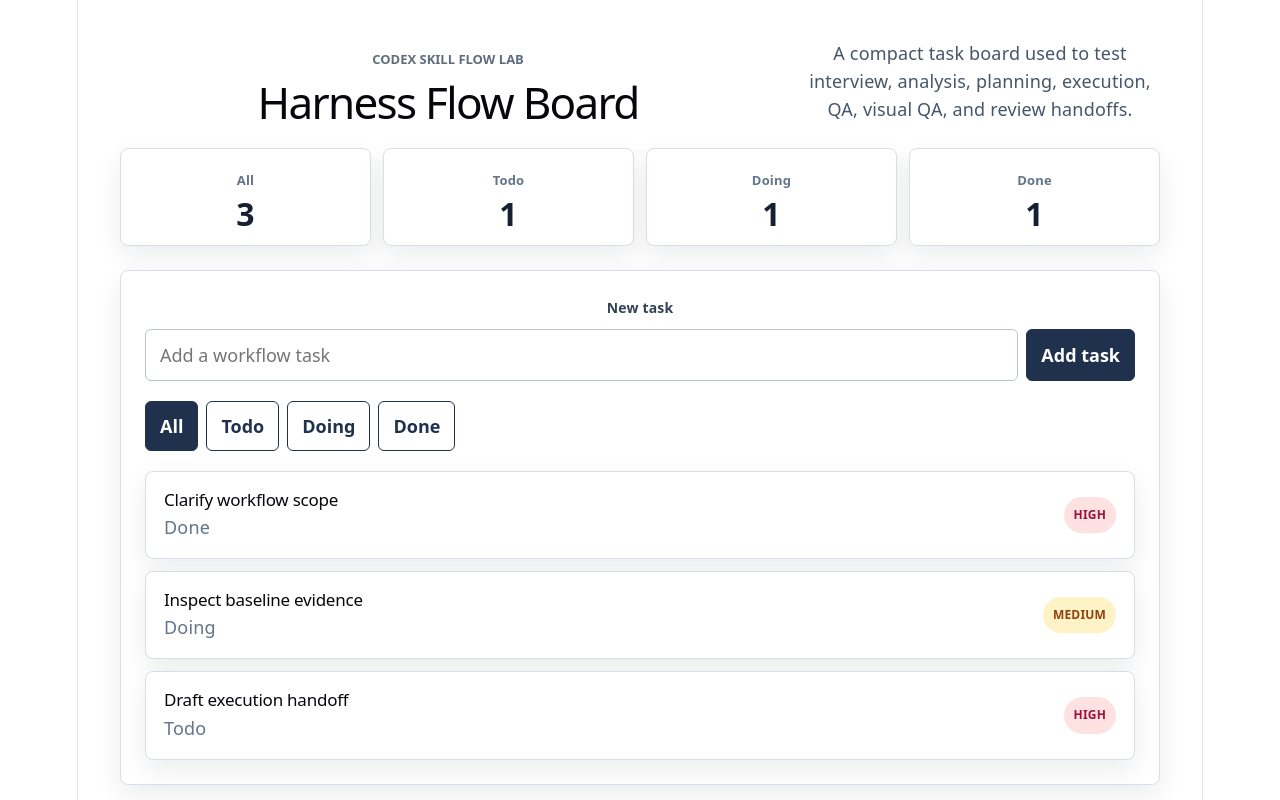
it: Harness Flow Board › filters tasks by status
Click the button "Done". click: (417, 426)
box: [378,401,455,451]
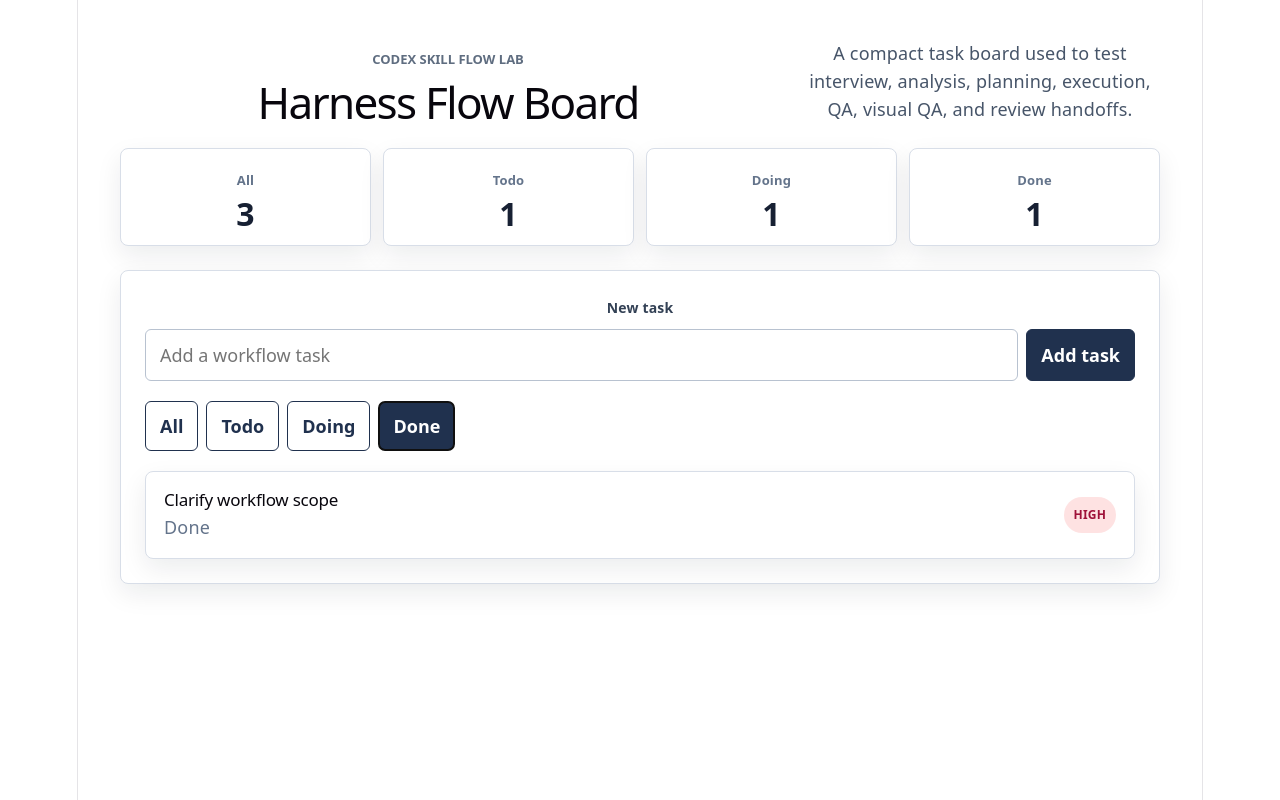
Expected: the heading "Clarify workflow scope" is shown, [164,490,338,510]
Result: the heading "Draft execution handoff" is gone
